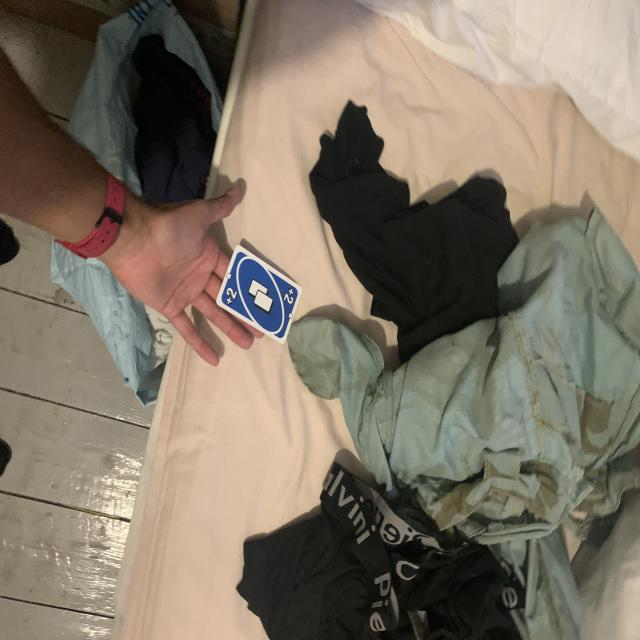lblue-20: (223, 284, 240, 308)
